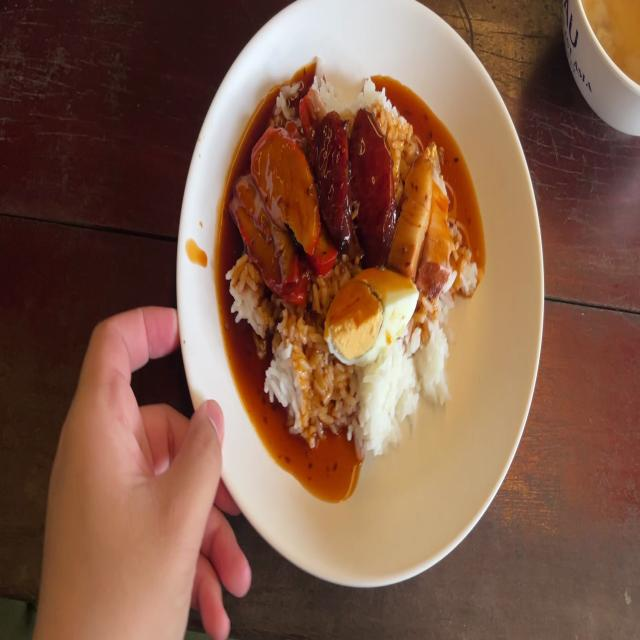red_pork_and_crispy_pork: (330, 267, 412, 364)
stir_fried_basil: (320, 114, 393, 252), (351, 109, 388, 263), (317, 114, 352, 235)
